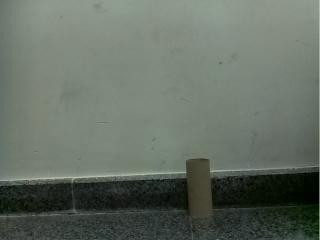rollo papel: (185, 158, 214, 218)
